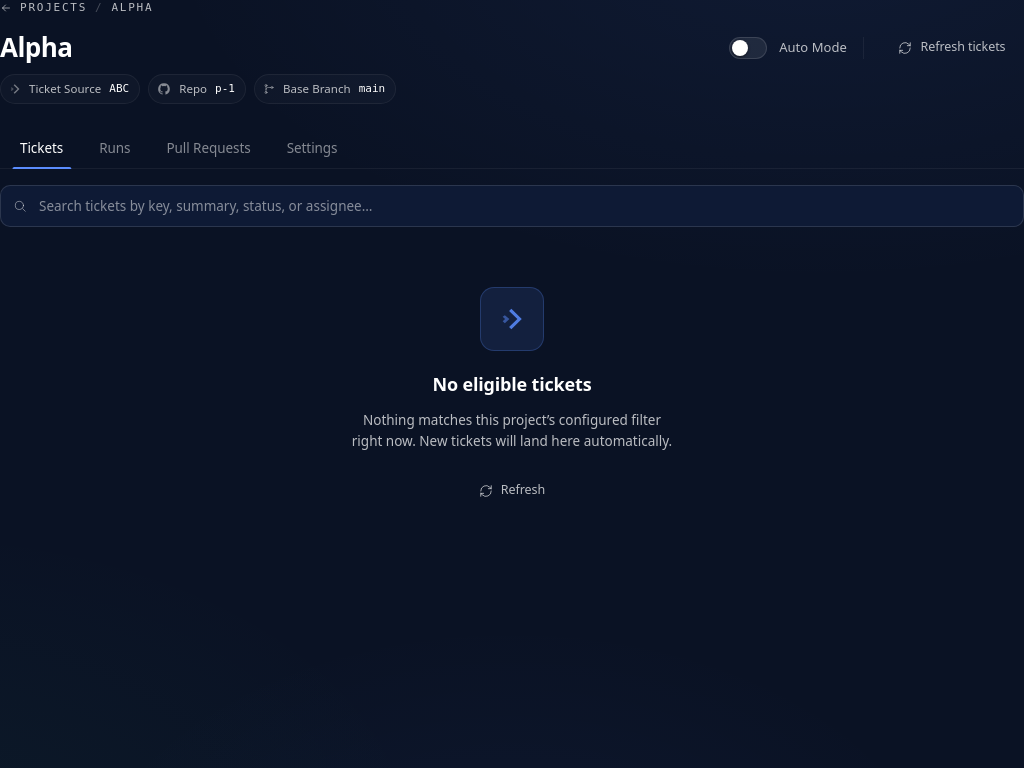
it: <ProjectDetail> PRs tab — #GH-67 › PRS-003: renders DataTable rows when pulls.list returns rows
Click the tab "Pull Requests".
click(209, 148)  # box 150,128 -> 267,168
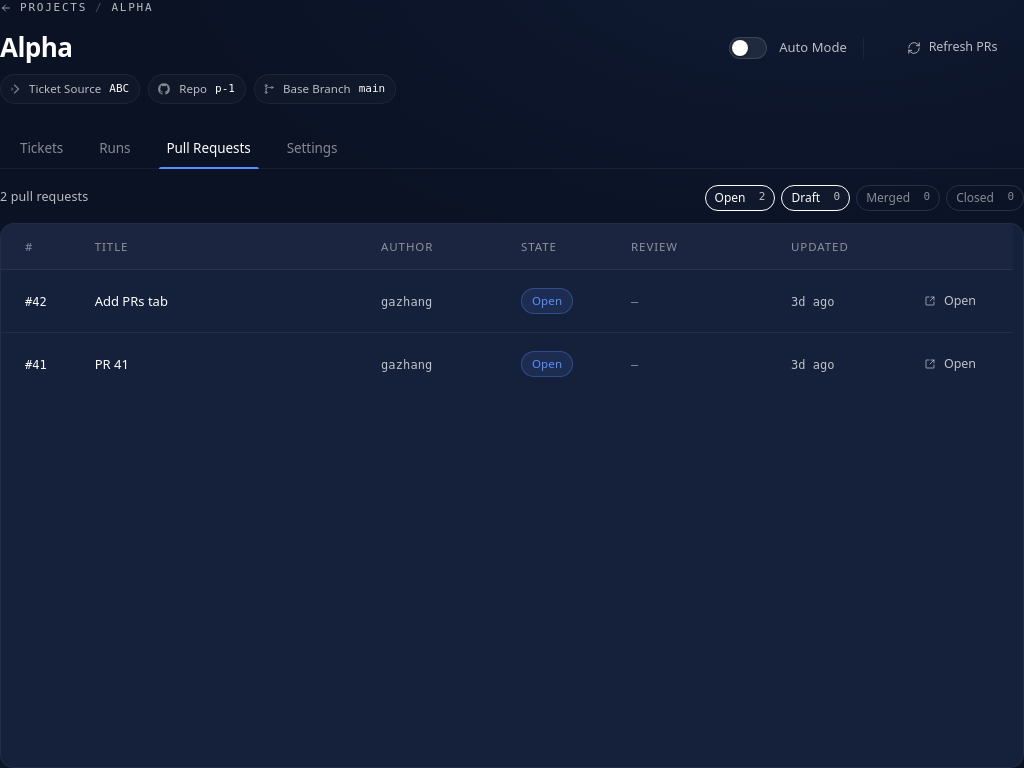
Expected: the text "Add PRs tab" is shown, 95,292 -> 168,310
Expected: the element with test id "pulls-table" is shown
Expected: the row with test id "pull-row-42" is shown, 1,270 -> 1013,333
